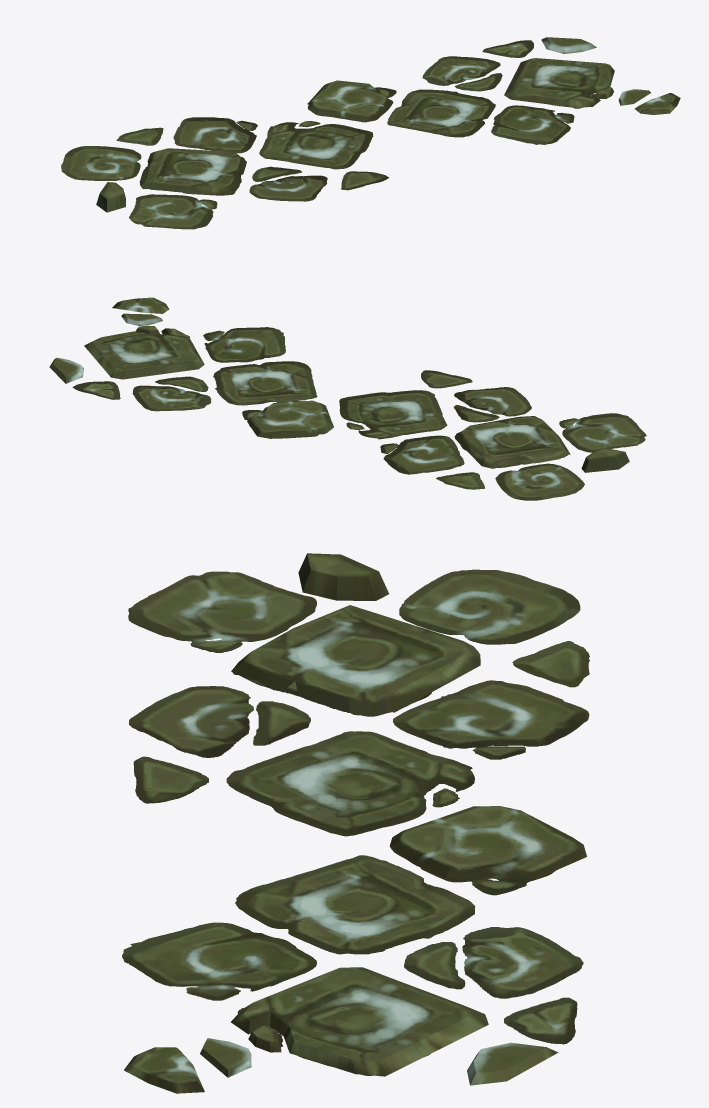
The model's file is pavers_straight_snow_02.fbx.
The picture shows the model from 3 angles, top to bottom: view 1: azimuth 30°, elevation 25°; view 2: azimuth 150°, elevation 25°; view 3: azimuth 270°, elevation 25°; orthographic projection. The views are drawn at different scales.
Visible parts, largest first — view 1: obj0.104; view 2: obj0.104; view 3: obj0.104.
Part boxes in pixels (left/top/right/bottom): obj0.104: left=61, top=37, right=680, bottom=229; obj0.104: left=49, top=297, right=646, bottom=500; obj0.104: left=122, top=553, right=589, bottom=1093.
Bounding box in the file's own units: 10.32 × 0.1954 × 5.01.
